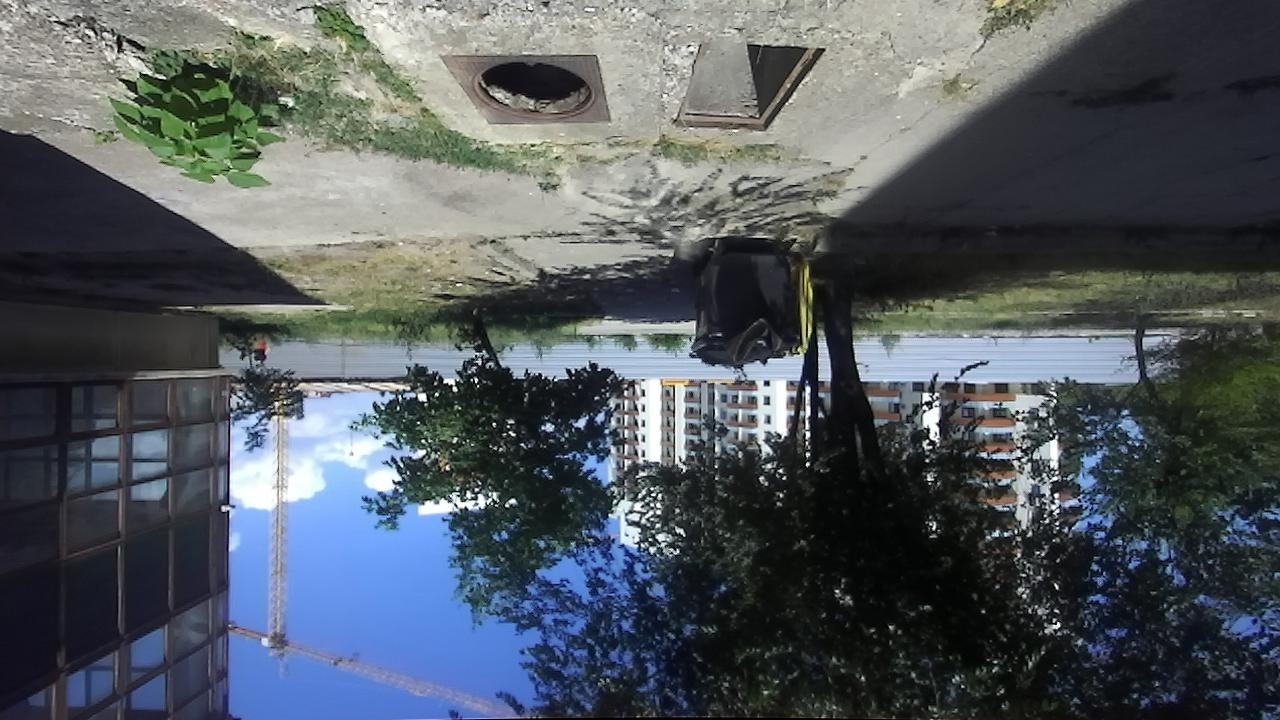drain: (671, 42, 831, 137), (470, 56, 598, 122)
